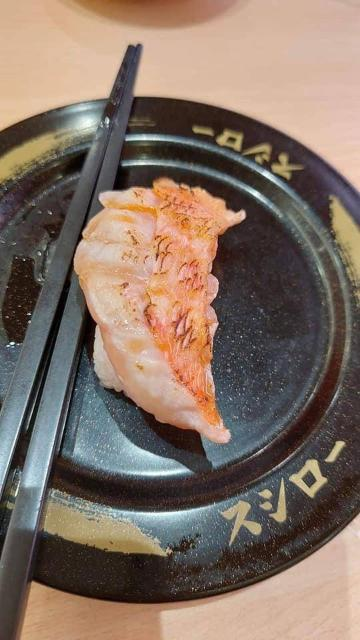janback: (0, 84, 360, 607)
